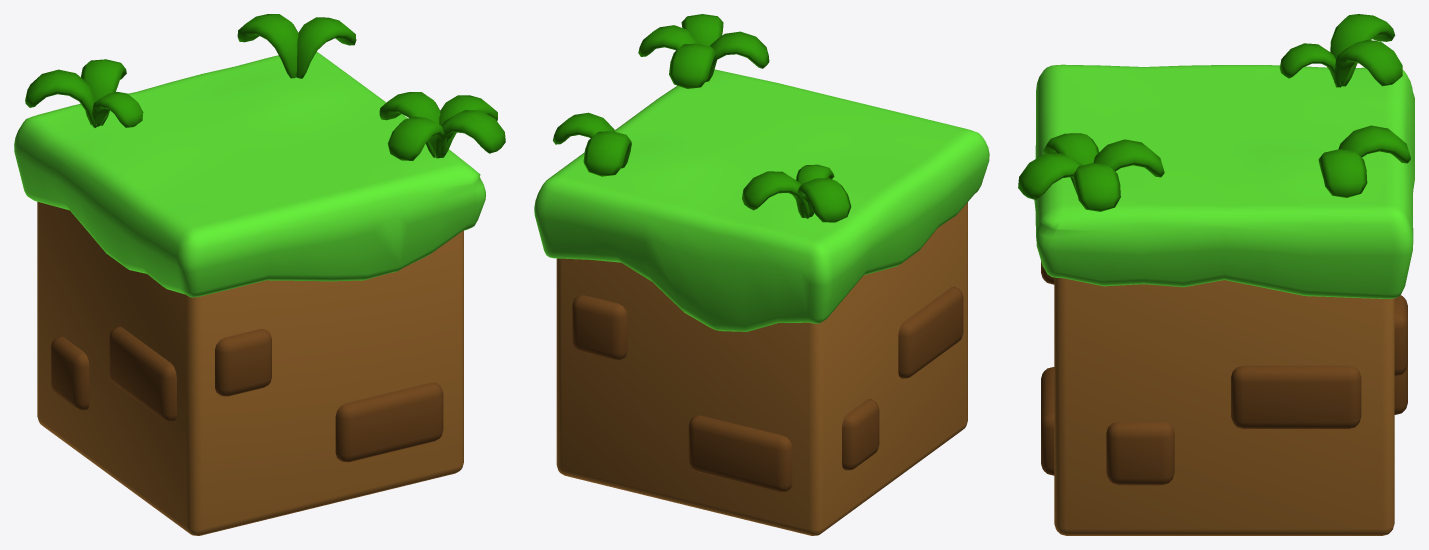
File: tile_3.fbx
The picture shows the model from 3 angles, left to right: view 1: azimuth 30°, elevation 25°; view 2: azimuth 150°, elevation 25°; view 3: azimuth 270°, elevation 25°; orthographic projection. The views are drawn at different scales.
Visible parts, largest first — view 1: tile3; view 2: tile3; view 3: tile3.
Part boxes in pixels (x1=…): tile3: x1=14, y1=14, x2=505, y2=535; tile3: x1=534, y1=14, x2=989, y2=535; tile3: x1=1018, y1=14, x2=1414, y2=535.
Size of the model in its own units: 247 by 249 by 233.
